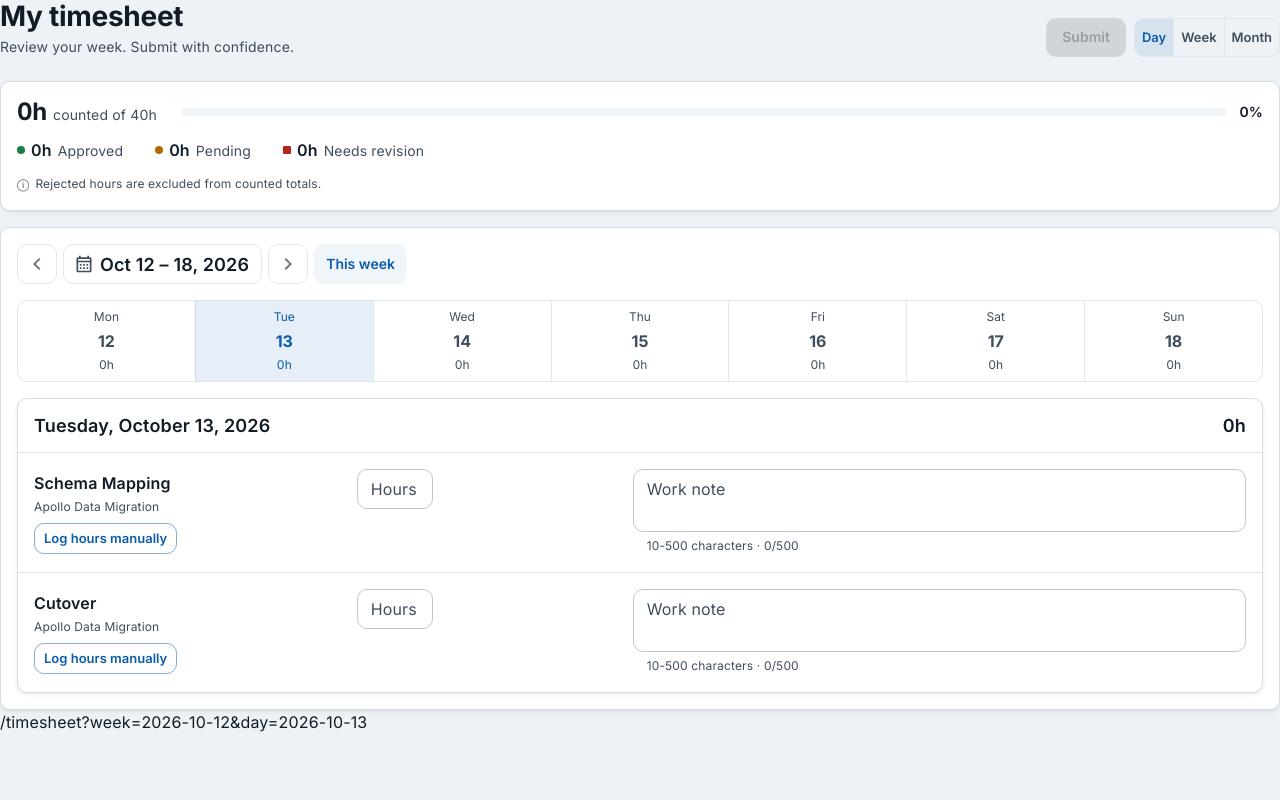
Test case: the Day view › an empty cell on a past day has only the manual button, and its dialog selects that day
Click the button with aria-label "Log hours manually on Schema Mapping" at (106, 538), box [34, 523, 177, 554]
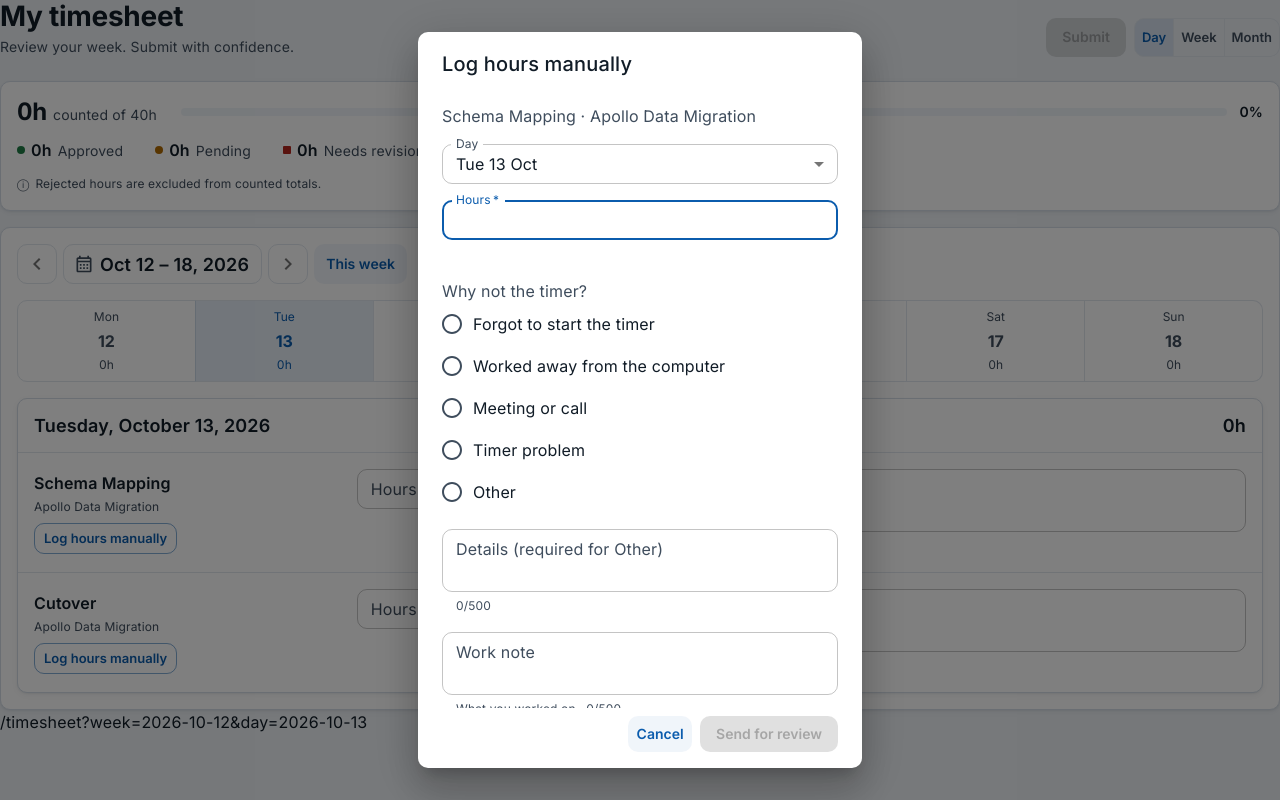
Expected: the dropdown named "Day" reads "Tue 13 Oct", [456, 154, 538, 174]
